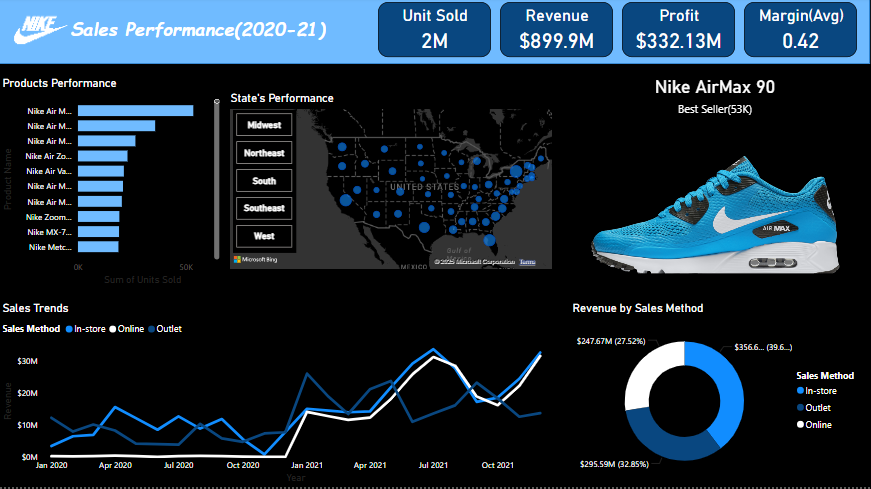

What the dashboard file says about the page in this screenshot:
{"tool":"powerbi","page":{"name":"Page 1","canvas":[1280,720],"ordinal":0},"visuals":[{"type":"lineChart","title":"Sales Trends","fields":{"Category":["Data Sales Nike.Invoice Date.Variation.Date Hierarchy.Year","Data Sales Nike.Invoice Date.Variation.Date Hierarchy.Quarter","Data Sales Nike.Invoice Date.Variation.Date Hierarchy.Month","Data Sales Nike.Invoice Date.Variation.Date Hierarchy.Day"],"Y":["Data Sales Nike.Revenue"],"Series":["Data Sales Nike.Sales Method"]},"box":[329.2,446.8,542.6,273.8],"z":0},{"type":"donutChart","fields":{"Category":["Data Sales Nike.Sales Method"],"Y":["Data Sales Nike.Revenue"]},"box":[881.9,446.8,398.1,273.8],"z":1000},{"type":"barChart","title":"Products Performance","fields":{"Category":["Data Sales Nike.Product Name"],"Y":["Sum(Data Sales Nike.Units Sold)"]},"box":[0,115.9,329.2,604.7],"z":2000},{"type":"map","title":"State''s Performance","fields":{"Category":["Data Sales Nike.State"],"Size":["Sum(Data Sales Nike.Units Sold)"]},"box":[329.2,132.7,495,304],"z":4000},{"type":"advancedSlicerVisual","fields":{"Values":["Data Sales Nike.Region"]},"box":[329.2,161.3,92.4,265.4],"z":6500},{"type":"shape","box":[0,0,1280,114.2],"z":9000},{"type":"card","title":"Average Margin","fields":{"Values":["Data Sales Nike.Profit Margin"]},"box":[1001.2,6.7,238.5,100.8],"z":9500},{"type":"card","title":"Unit Sold","fields":{"Values":["Sum(Data Sales Nike.Units Sold)"]},"box":[255.3,6.7,238.5,100.8],"z":9750},{"type":"card","title":"Revenue","fields":{"Values":["Data Sales Nike.Revenue"]},"box":[503.9,6.7,238.5,100.8],"z":9875},{"type":"card","title":"Profit","fields":{"Values":["Sum(Data Sales Nike.Operating Profit)"]},"box":[752.5,6.7,238.5,100.8],"z":9937},{"type":"image","box":[0,0,255.7,113.1],"z":10000},{"type":"image","title":"Nike AirMax 90","box":[824.8,132.7,455.2,304],"z":11000}]}

Visuals, with their boxes in screenshot pixels (x1, y1, x2, y2), scaled from the page's 1280x720 canvas onto the 871x489 screenshot:
"Sales Trends" lineChart: crop(224, 303, 593, 488)
donutChart - Data Sales Nike.Sales Method x Data Sales Nike.Revenue: crop(600, 303, 870, 488)
"Products Performance" barChart: crop(0, 79, 224, 488)
"State''s Performance" map: crop(224, 90, 561, 297)
advancedSlicerVisual - Data Sales Nike.Region: crop(224, 110, 287, 290)
shape: crop(0, 0, 870, 78)
"Average Margin" card: crop(681, 5, 844, 73)
"Unit Sold" card: crop(174, 5, 336, 73)
"Revenue" card: crop(343, 5, 505, 73)
"Profit" card: crop(512, 5, 674, 73)
image: crop(0, 0, 174, 77)
"Nike AirMax 90" image: crop(561, 90, 870, 297)
